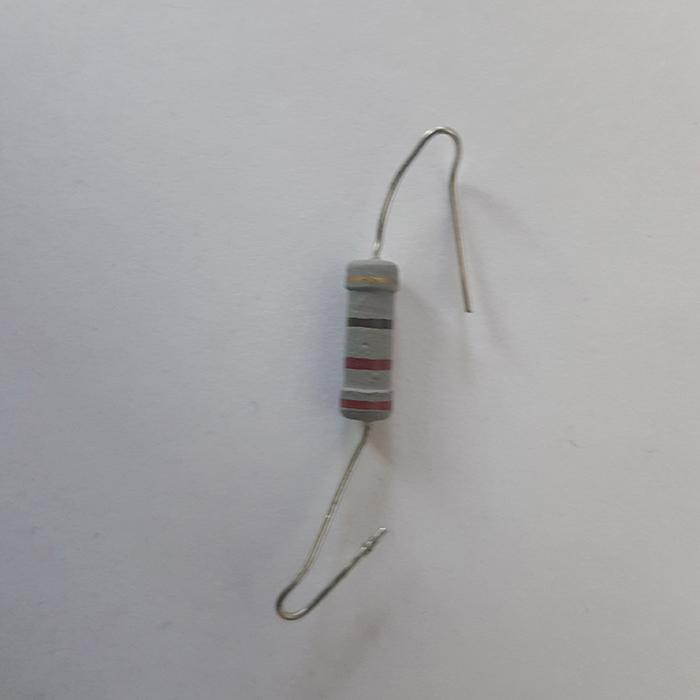resistor: (338, 259, 398, 422)
